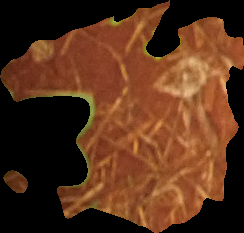soil: (1, 3, 240, 231)
